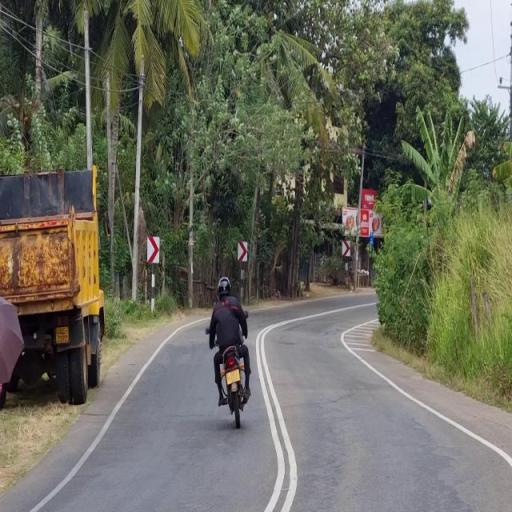double_white_line: (255, 320, 299, 512), (0, 4, 37, 59)
